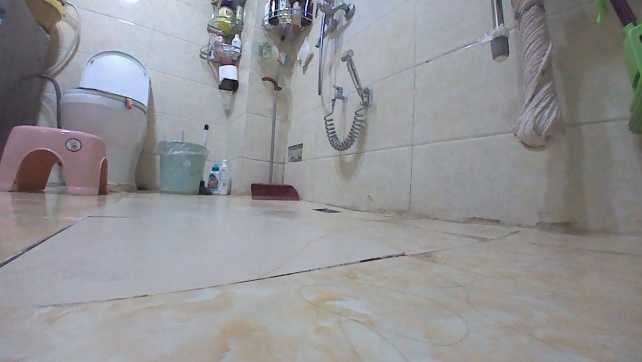plastic_stool: (1, 121, 114, 199)
toilet: (60, 44, 152, 194)
trash_can: (156, 135, 208, 193)
